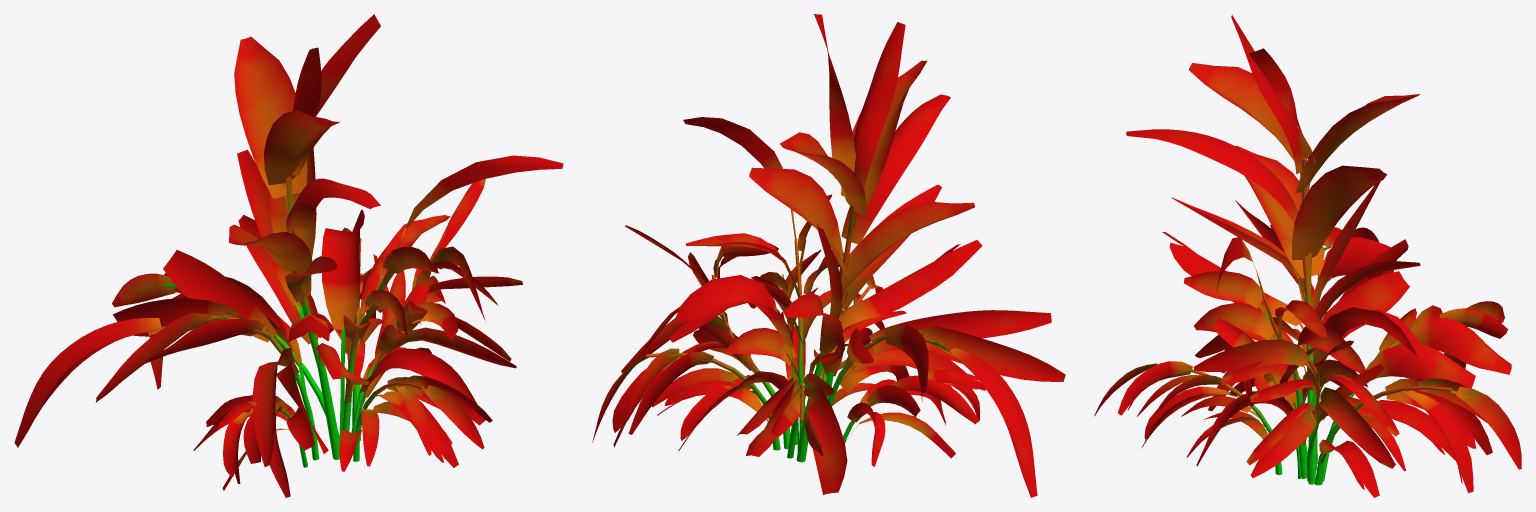
File: Var1_LOD0.fbx
3 renders of one model, left to right at view 1: azimuth 30°, elevation 25°; view 2: azimuth 150°, elevation 25°; view 3: azimuth 270°, elevation 25°, orthographic. The views are drawn at different scales.
Visible parts, largest first — view 1: _12fd_Var1_LOD0; view 2: _12fd_Var1_LOD0; view 3: _12fd_Var1_LOD0.
Part boxes in pixels (x1,y1,x2,y2): _12fd_Var1_LOD0: (14,14,563,497); _12fd_Var1_LOD0: (592,14,1065,497); _12fd_Var1_LOD0: (1094,15,1521,497).
Bounding box in the file's own units: 241 × 228 × 201.
